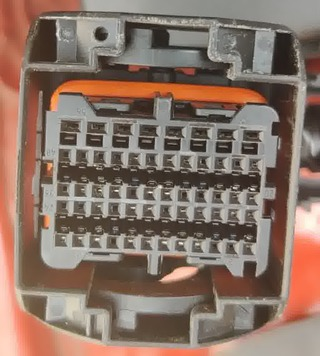connector: (14, 11, 306, 349)
